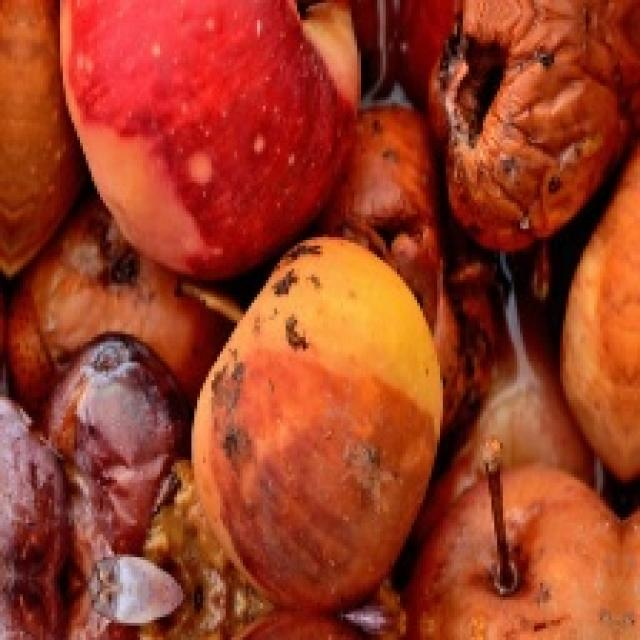rotten_apple: (201, 238, 441, 601), (436, 0, 626, 237), (422, 471, 615, 640), (42, 340, 193, 490), (14, 214, 197, 336), (339, 103, 445, 246)
